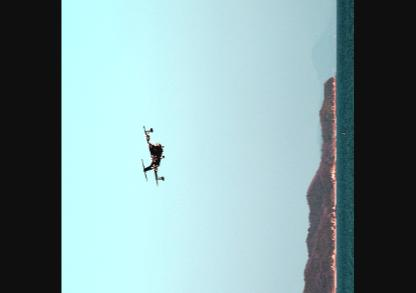Tu95: (140, 124, 164, 185)
